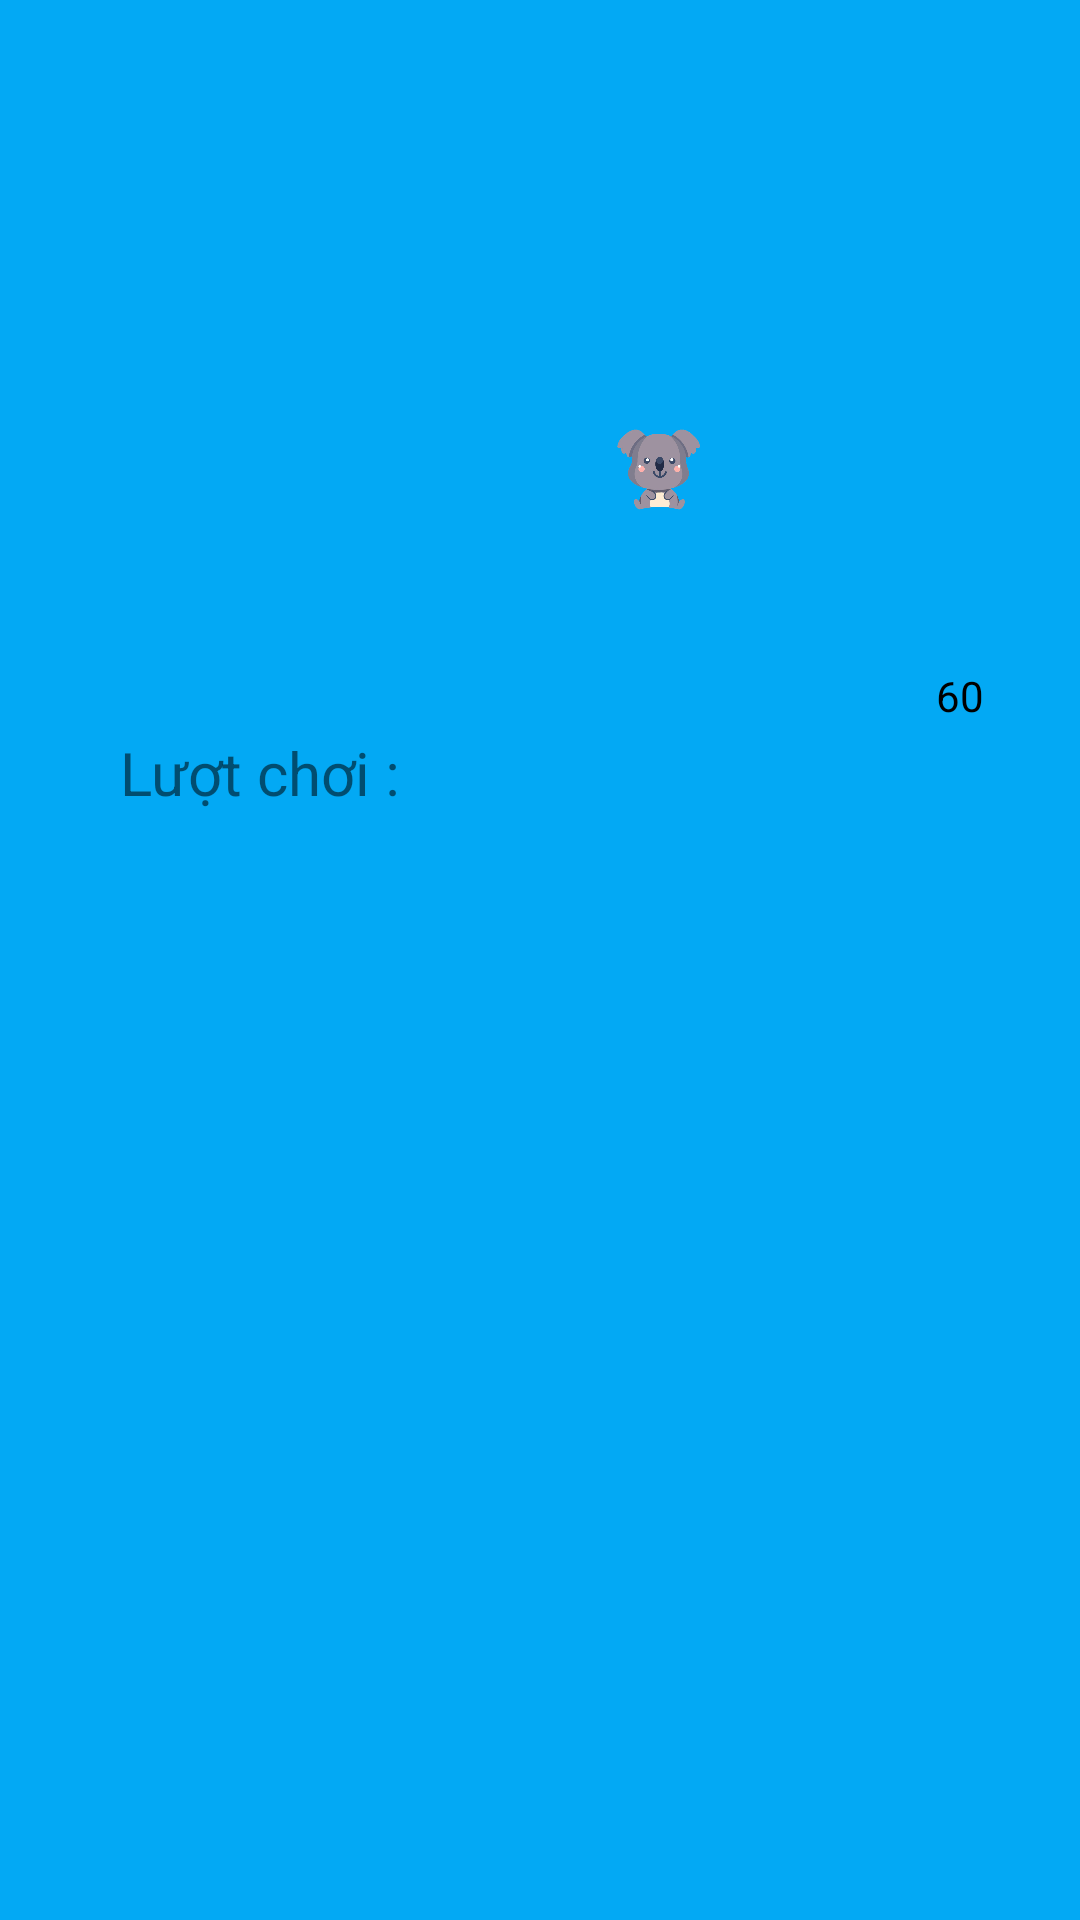

Named icons in this screenshot (1080*1920) and their centers, (x,y):
thu: (658,469)
